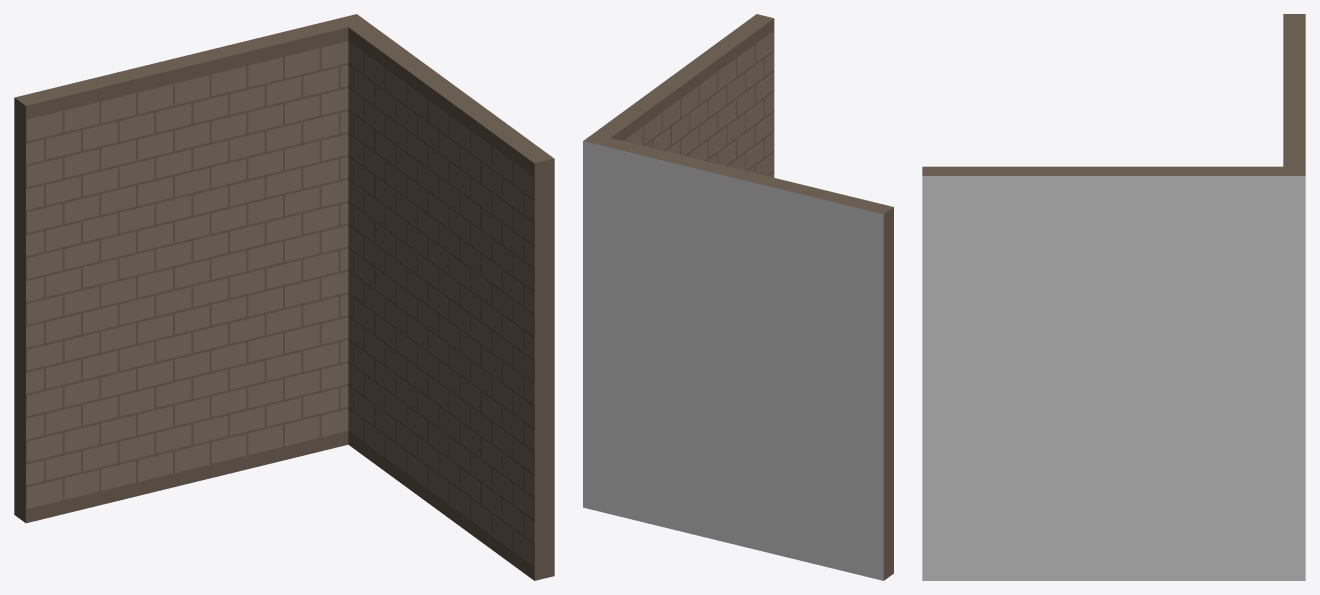
File: Wall1_C10_06.fbx
3 views of the same model, side by side, from view 1: azimuth 30°, elevation 25°; view 2: azimuth 150°, elevation 25°; view 3: azimuth 270°, elevation 25° (orthographic). The views are drawn at different scales.
Visible parts, largest first — view 1: Wall1_C10_06; view 2: Wall1_C10_06; view 3: Wall1_C10_06.
Part boxes in pixels (x1,y1,x2,y2): Wall1_C10_06: [14, 14, 554, 580]; Wall1_C10_06: [583, 14, 893, 580]; Wall1_C10_06: [922, 14, 1305, 580].
Bounding box in the file's own units: 258 × 300 × 258.
